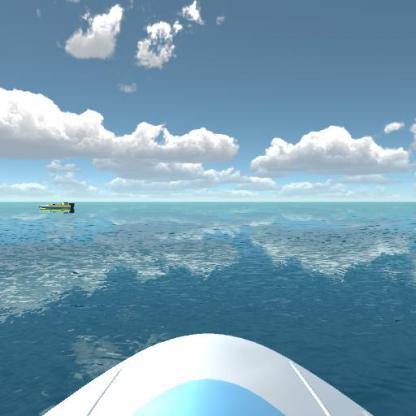usv2: (38, 197, 80, 217)
